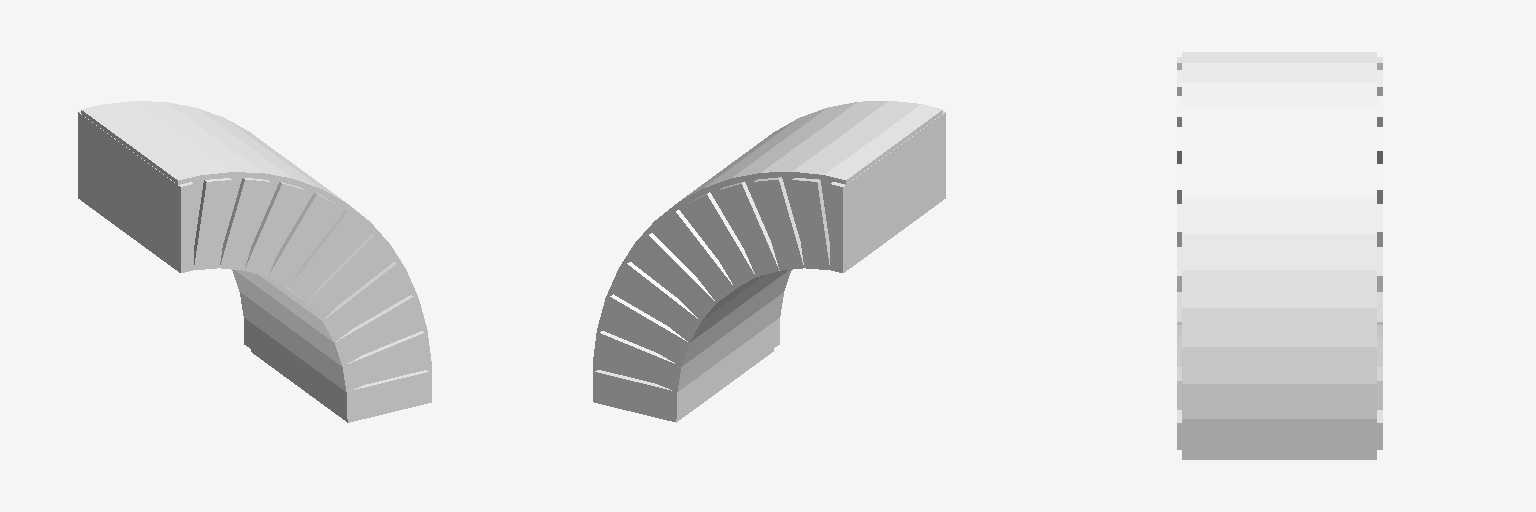
The model's file is lime_mortar_orange_clay_brick_round_arch_2.obj.
The picture shows the model from 3 angles: view 1: azimuth 30°, elevation 25°; view 2: azimuth 150°, elevation 25°; view 3: azimuth 270°, elevation 25°; orthographic projection.
Visible parts, largest first — view 1: cube.057, cube.047, cube.048, cube.049, cube.050, cube.069, cube.051, cube.070, cube.068, cube.052, cube.053, cube.055 (+6 smaller); view 2: cube.057, cube.047, cube.048, cube.049, cube.050, cube.051, cube.070, cube.069, cube.052, cube.053, cube.054, cube.055 (+6 smaller); view 3: cube.058, cube.061, cube.062, cube.060, cube.063, cube.059, cube.064, cube.065, cube.066, cube.067, cube.068, cube.069 (+1 smaller).
Part boxes in pixels (x1,y1,x2,y2): cube.057: (78, 111, 193, 272); cube.047: (244, 318, 428, 418); cube.048: (240, 292, 427, 391); cube.049: (232, 270, 421, 365); cube.050: (235, 262, 407, 342); cube.069: (103, 101, 231, 244); cube.051: (260, 233, 389, 320); cube.070: (81, 104, 199, 221); cube.068: (136, 101, 262, 239); cube.052: (284, 210, 366, 302); cube.053: (268, 192, 337, 287); cube.055: (220, 177, 269, 270); cube.057: (830, 111, 945, 272); cube.047: (595, 318, 779, 418); cube.048: (595, 292, 783, 391); cube.049: (602, 270, 791, 366); cube.050: (615, 262, 788, 342); cube.051: (634, 233, 763, 320); cube.070: (824, 104, 942, 240); cube.069: (792, 101, 920, 199); cube.052: (657, 210, 739, 302); cube.053: (686, 192, 755, 287); cube.054: (718, 181, 779, 276); cube.055: (754, 177, 803, 270); cube.058: (1182, 419, 1376, 459); cube.061: (1182, 308, 1376, 346); cube.062: (1182, 270, 1376, 307); cube.060: (1182, 347, 1376, 383); cube.063: (1182, 234, 1376, 269); cube.059: (1182, 384, 1376, 418); cube.064: (1182, 199, 1376, 233); cube.065: (1182, 165, 1376, 198); cube.066: (1182, 135, 1376, 164); cube.067: (1182, 107, 1376, 134); cube.068: (1182, 83, 1376, 106); cube.069: (1182, 63, 1376, 82).
Size of the model in its own units: 1.52 by 1.62 by 1.07.